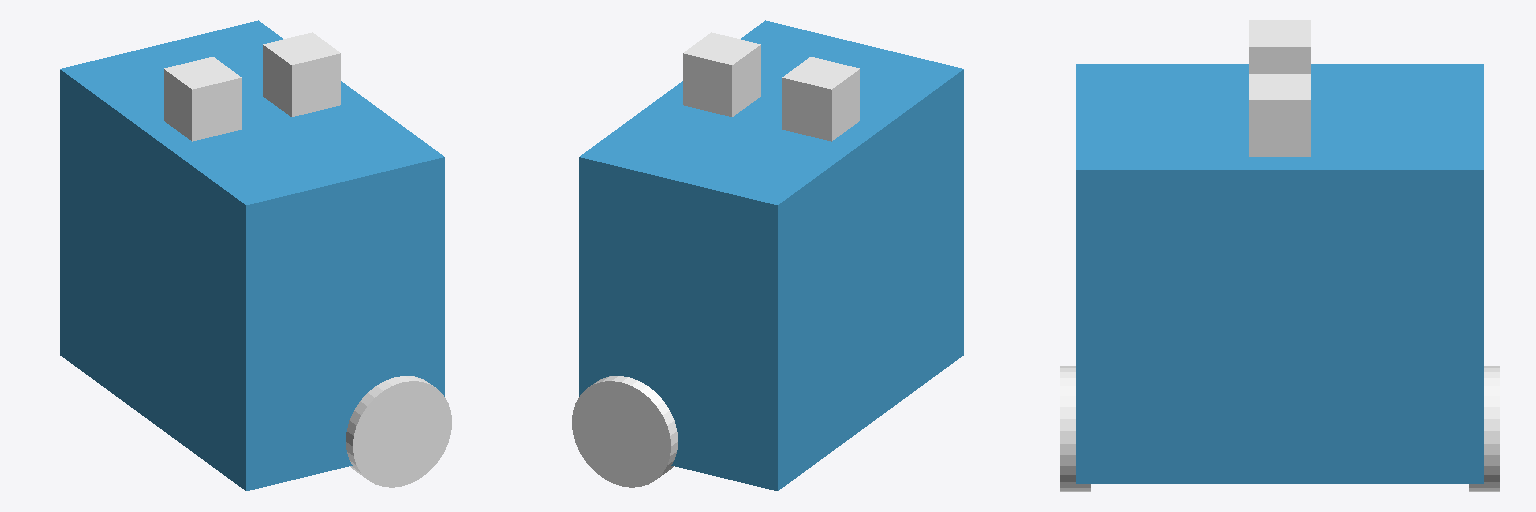
robot.urdf — chicken:
<?xml version="1.0"?>
<robot name="chicken">

  <material name="white">
    <color rgba="1 1 1 1"/>
  </material>
  
  <link name="base_footprint"/>
  
  <joint name="base_joint" type="fixed">
    <origin xyz="0.2 0.325 0.275" rpy="0 0 0"/>
    <parent link="base_footprint"/>
    <child link="base_link"/>
  </joint>

  <link name="base_link">
    <visual>
      <geometry>
        <box size="0.400 0.6500 0.550"/>
      </geometry>
    </visual>

    <collision>
      <geometry>
        <box size="0.400 0.6500 0.550"/>
      </geometry>
    </collision>

    <inertial>
      <origin xyz="0 0 0"/>
      <mass value="0.500"/>
      <inertia ixx="0.0020833333" ixy="0" ixz="0" iyy="0.0070833333" iyz="0" izz="0.0083333333"/>
    </inertial>
  </link>

  <link name="left_wheel_link">
    <visual>
      <geometry>
        <cylinder radius="0.1" length="0.05"/>
      </geometry>
      <origin xyz="0 0 0" rpy="0 0 0"/>
      <material name="white"/>
    </visual>

    <collision>
      <geometry>
        <cylinder radius="0.1" length="0.05"/>
      </geometry>
    </collision>

    <inertial>
      <origin xyz="0 0 0"/>
      <mass value="0.500"/>
      <inertia ixx="0.0013541667" ixy="0" ixz="0" iyy="0.0013541667" iyz="0" izz="0.0025"/>
    </inertial>

  </link>

  <joint name="left_wheel_joint" type="continuous">
    <parent link="base_link"/>
    <child link="left_wheel_link"/>
    <origin rpy="-1.5707 0 0" xyz="0.100 0.3250 -0.225"/>
    <axis xyz="0 0 1"/>
  </joint>

  <link name="right_wheel_link">
    <visual>
      <geometry>
        <cylinder radius="0.1" length="0.05"/>
      </geometry>
      <origin xyz="0 0 0" rpy="0 0 0"/>
      <material name="white"/>
    </visual>

    <collision>
      <geometry>
        <cylinder radius="0.1" length="0.05"/>
      </geometry>
    </collision>

    <inertial>
      <origin xyz="0 0 0"/>
      <mass value="0.500"/>
      <inertia ixx="0.0013541667" ixy="0" ixz="0" iyy="0.0013541667" iyz="0" izz="0.0025"/>
    </inertial>

  </link>

  <joint name="right_wheel_joint" type="continuous">
    <parent link="base_link"/>
    <child link="right_wheel_link"/>
    <origin rpy="1.5707 0 0" xyz="0.100 -0.3250 -0.225"/>
    <axis xyz="0 0 -1"/>
  </joint>

  <link name="caster_link">
    <visual>
      <geometry>
        <sphere radius="0.05"/>
      </geometry>
      <material name="green">
        <color rgba="0 1 0 1"/>
      </material>
    </visual>

    <collision>
      <geometry>
        <sphere radius="0.05"/>
      </geometry>
    </collision>

    <inertial>
      <origin xyz="0 0 0"/>
      <mass value="0.500"/>
      <inertia ixx="0.00025" ixy="0" ixz="0" iyy="0.00025" iyz="0" izz="0.00025"/>
    </inertial>

  </link>

  <joint name="caster_joint" type="fixed">
    <parent link="base_link"/>
    <child link="caster_link"/>
    <origin xyz="-0.150 0 -0.10"/>
  </joint>

  <!-- Hokuyo Laser -->
  <link name="hesai_lidar">
    <collision>
      <origin xyz="0 0 0" rpy="0 0 0"/>
      <geometry>
        <box size="0.1 0.1 0.1"/>
      </geometry>
    </collision>

    <visual>
      <origin xyz="0 0 0" rpy="0 0 0"/>
      <geometry>
        <box size="0.1 0.1 0.1"/>
      </geometry>
      <material name="">
        <color rgba="1.0 1.0 1.0 1.0"/>
      </material>
    </visual>

    <inertial>
      <mass value="1e-5" />
      <origin xyz="0 0 0" rpy="0 0 0"/>
      <inertia ixx="1e-6" ixy="0" ixz="0" iyy="1e-6" iyz="0" izz="1e-6" />
    </inertial>
  </link>
  <joint name="hesai_lidar_joint" type="fixed">
    <axis xyz="0 1 0" />
    <origin xyz="-0.1 0 0.325" rpy="0 0 3.1412"/> 
    <!-- rolla値 pi-->
    <parent link="base_link"/>
    <child link="hesai_lidar"/>
  </joint>

   <link name="camera_link">
    <collision>
      <origin xyz="0 0 0" rpy="0 0 0"/>
      <geometry>
        <box size="0.1 0.1 0.1"/>
      </geometry>
    </collision>

    <visual>
      <origin xyz="0 0 0" rpy="0 0 0"/>
      <geometry>
        <box size="0.1 0.1 0.1"/>
      </geometry>
      <material name="">
        <color rgba="1.0 1.0 1.0 1.0"/>
      </material>
    </visual>

    <inertial>
      <mass value="1e-5" />
      <origin xyz="0 0 0" rpy="0 0 0"/>
      <inertia ixx="1e-6" ixy="0" ixz="0" iyy="1e-6" iyz="0" izz="1e-6" />
    </inertial>
  </link>

  <joint name="camera_joint" type="fixed">
    <axis xyz="0 1 0" />
    <origin rpy="-1.5707 0.0 -1.5707" xyz="0.1 0.0 0.325"/>
    <parent link="base_link"/>
    <child link="camera_link"/>
  </joint>

</robot>

--- Render facts (derived) ---
3 views of the same robot in one strip: view 1: azimuth 30°, elevation 25°; view 2: azimuth 150°, elevation 25°; view 3: azimuth 270°, elevation 25° (orthographic).
Model chicken with 7 links and 6 joints (2 continuous, 4 fixed), rooted at base_footprint, posed every joint at zero.
Visible links, largest first — view 1: base_link, right_wheel_link, hesai_lidar, camera_link; view 2: base_link, left_wheel_link, hesai_lidar, camera_link; view 3: base_link, camera_link, hesai_lidar, left_wheel_link, right_wheel_link.
Link boxes in pixels (x1,y1,x2,y2): base_link: (60, 20, 444, 490); right_wheel_link: (346, 376, 451, 487); hesai_lidar: (164, 57, 241, 141); camera_link: (263, 32, 340, 116); base_link: (579, 20, 963, 490); left_wheel_link: (572, 376, 677, 487); hesai_lidar: (782, 57, 859, 141); camera_link: (683, 32, 760, 116); base_link: (1076, 64, 1483, 483); camera_link: (1249, 74, 1310, 156); hesai_lidar: (1249, 20, 1310, 73); left_wheel_link: (1469, 366, 1499, 491); right_wheel_link: (1060, 366, 1090, 491).
Size in the robot's own frame: 0.4 by 0.7 by 0.7 metres.
Geometry: primitives only (box / cylinder / sphere), no mesh files.
